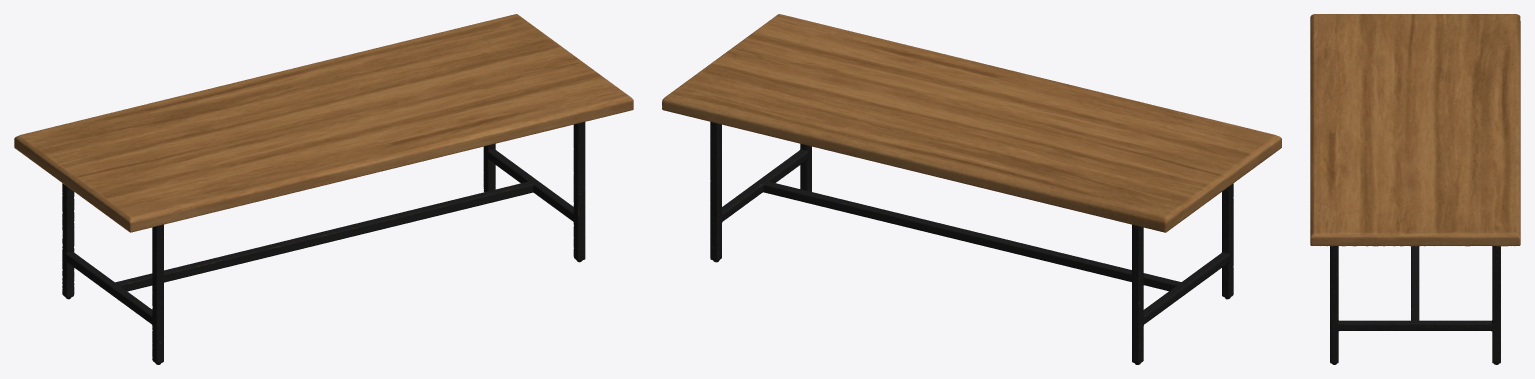
Rendered from bench.glb.
3 views of the same model, side by side, from view 1: azimuth 30°, elevation 25°; view 2: azimuth 150°, elevation 25°; view 3: azimuth 270°, elevation 25° (orthographic). The views are drawn at different scales.
Parts seen in each view (by area): view 1: world; view 2: world; view 3: world.
Part boxes in pixels (x1,y1,x2,y2): world: (14,14,633,364); world: (662,14,1281,364); world: (1310,14,1520,364).
Bounding box in the file's own units: 1 × 0.3121 × 0.401.
1 material, 1 textured.
